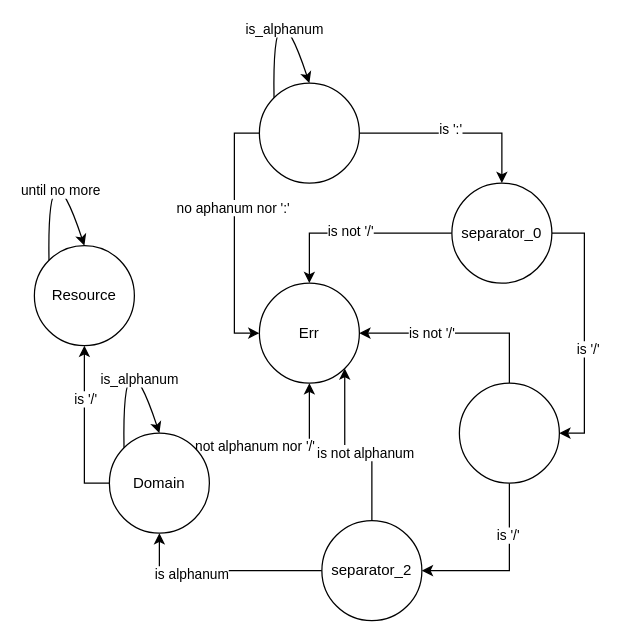
Image size: 621x643. Some labels were removed from this diagram. Each missing label, with the centre of its shape:
"Protocol" belongs at point (308, 132).
"separator_1" belongs at point (508, 432).
